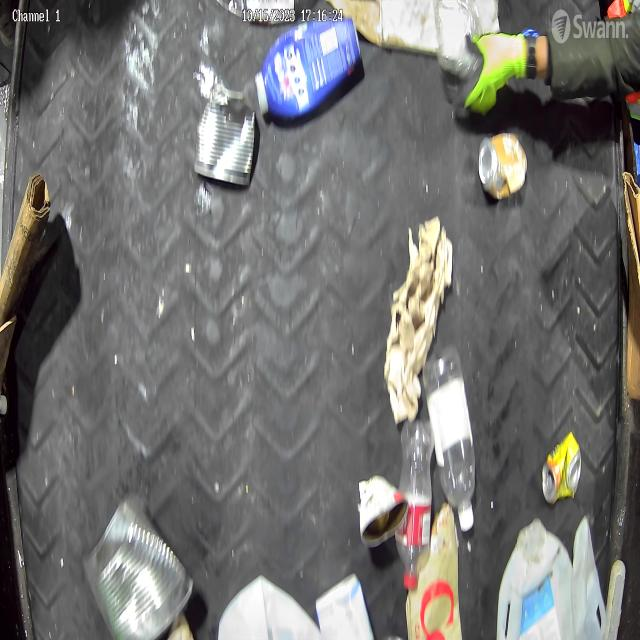can: (84, 495, 195, 640), (195, 88, 256, 187), (478, 131, 530, 206), (538, 433, 582, 508)
milk_jug: (495, 516, 577, 640), (215, 570, 320, 640)
plastic_bottle: (421, 346, 478, 536), (396, 412, 435, 606)
